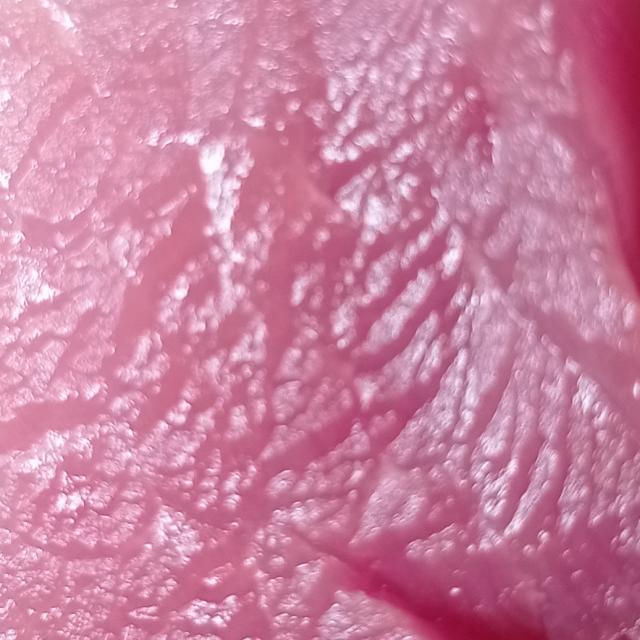pork: (6, 28, 617, 606)
